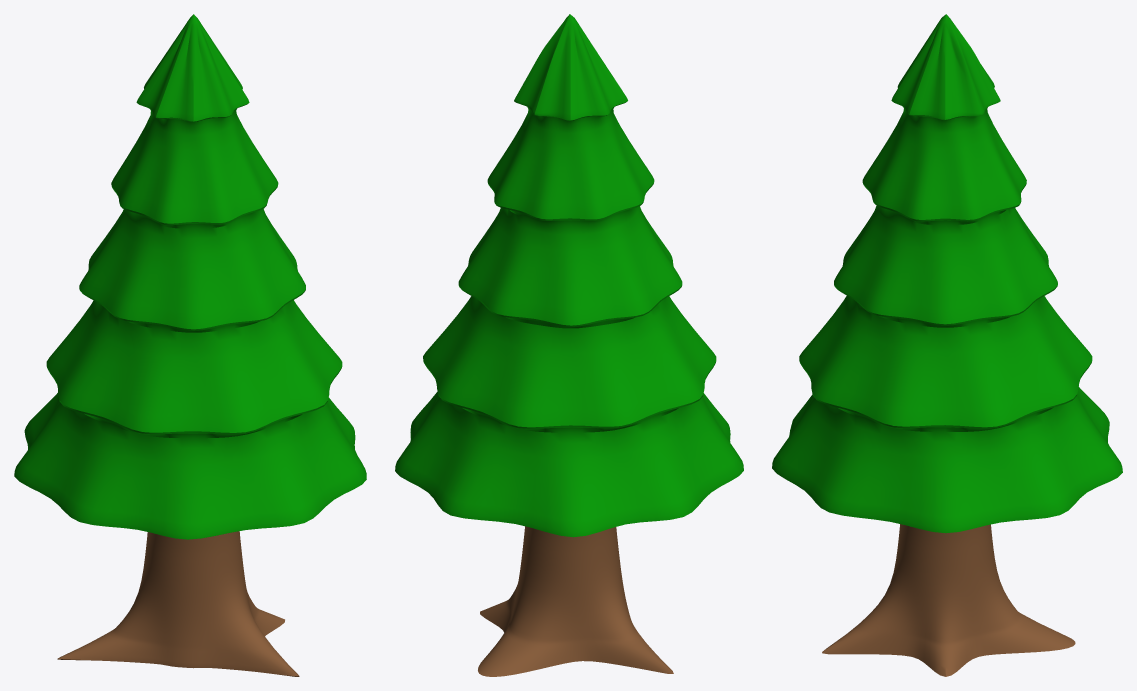
File: tree.fbx
3 views of the same model, side by side, from view 1: azimuth 30°, elevation 25°; view 2: azimuth 150°, elevation 25°; view 3: azimuth 270°, elevation 25° (orthographic).
Parts seen in each view (by area): view 1: tree; view 2: tree; view 3: tree.
Part boxes in pixels (box(x1,y1,x2,y2)): tree: box(14, 14, 366, 676); tree: box(395, 14, 743, 676); tree: box(772, 14, 1122, 676).
Size of the model in its own units: 15 by 29.42 by 15.12.
